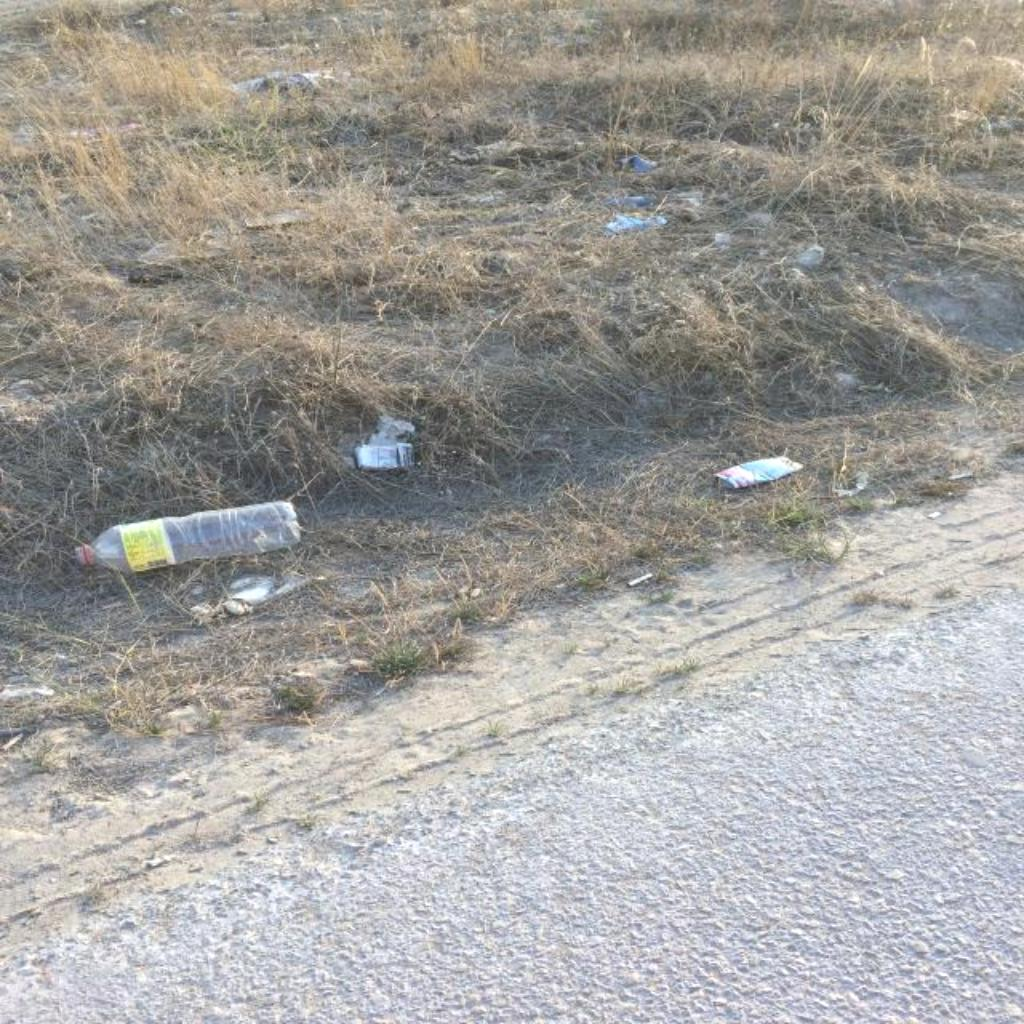garbage: (66, 494, 302, 574), (215, 569, 306, 617), (708, 453, 804, 490), (354, 443, 419, 472), (603, 194, 651, 213)
